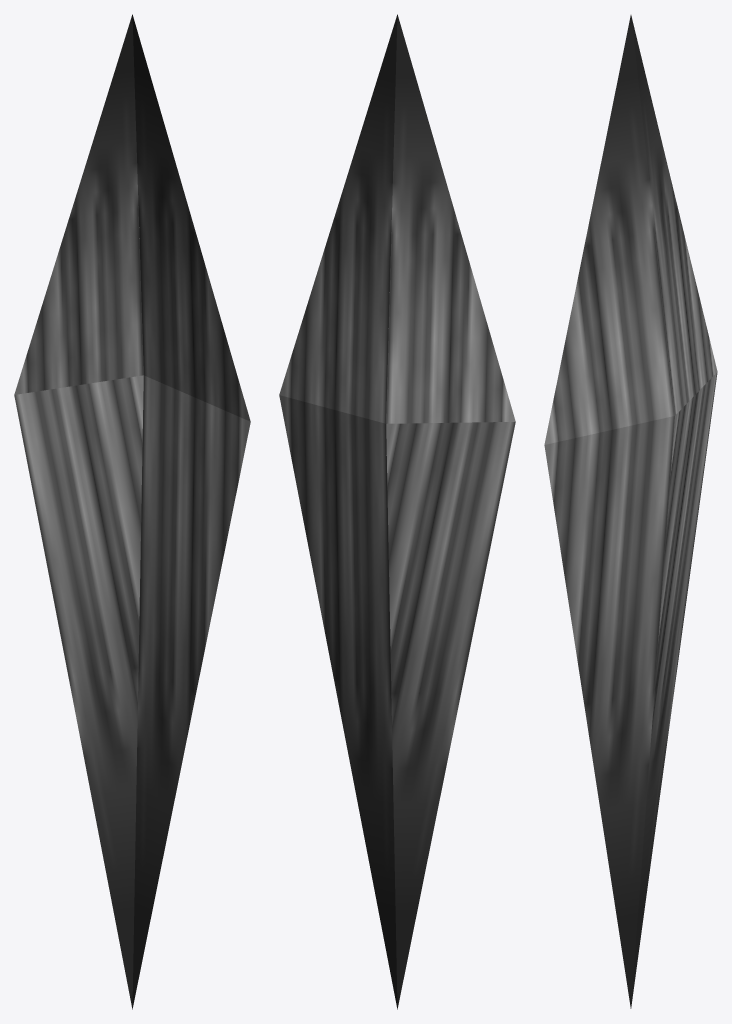
File: Eckverschluß [Wellblech]_808.glb
3 renders of one model, left to right at view 1: azimuth 30°, elevation 25°; view 2: azimuth 210°, elevation 25°; view 3: azimuth 270°, elevation 25°, orthographic.
Parts seen in each view (by area): view 1: pPlaneShape11, pPlaneShape10, pPlaneShape8, pPlaneShape9; view 2: pPlaneShape11, pPlaneShape10, pPlaneShape8, pPlaneShape9; view 3: pPlaneShape10, pPlaneShape9, pPlaneShape11, pPlaneShape8.
Boxes of the visible parts, box(x1,y1,x2,y2) form: pPlaneShape11: box(14, 375, 143, 1009); pPlaneShape10: box(132, 375, 250, 1007); pPlaneShape8: box(14, 14, 143, 394); pPlaneShape9: box(132, 15, 250, 421); pPlaneShape11: box(386, 421, 515, 1009); pPlaneShape10: box(279, 395, 397, 1007); pPlaneShape8: box(386, 14, 515, 423); pPlaneShape9: box(279, 15, 397, 423); pPlaneShape10: box(544, 416, 674, 1008); pPlaneShape9: box(544, 15, 674, 444); pPlaneShape11: box(631, 372, 717, 1008); pPlaneShape8: box(631, 15, 717, 415).
Size of the model in its own units: 0.0549 by 0.3486 by 0.0549.
4 materials, 4 textured.
